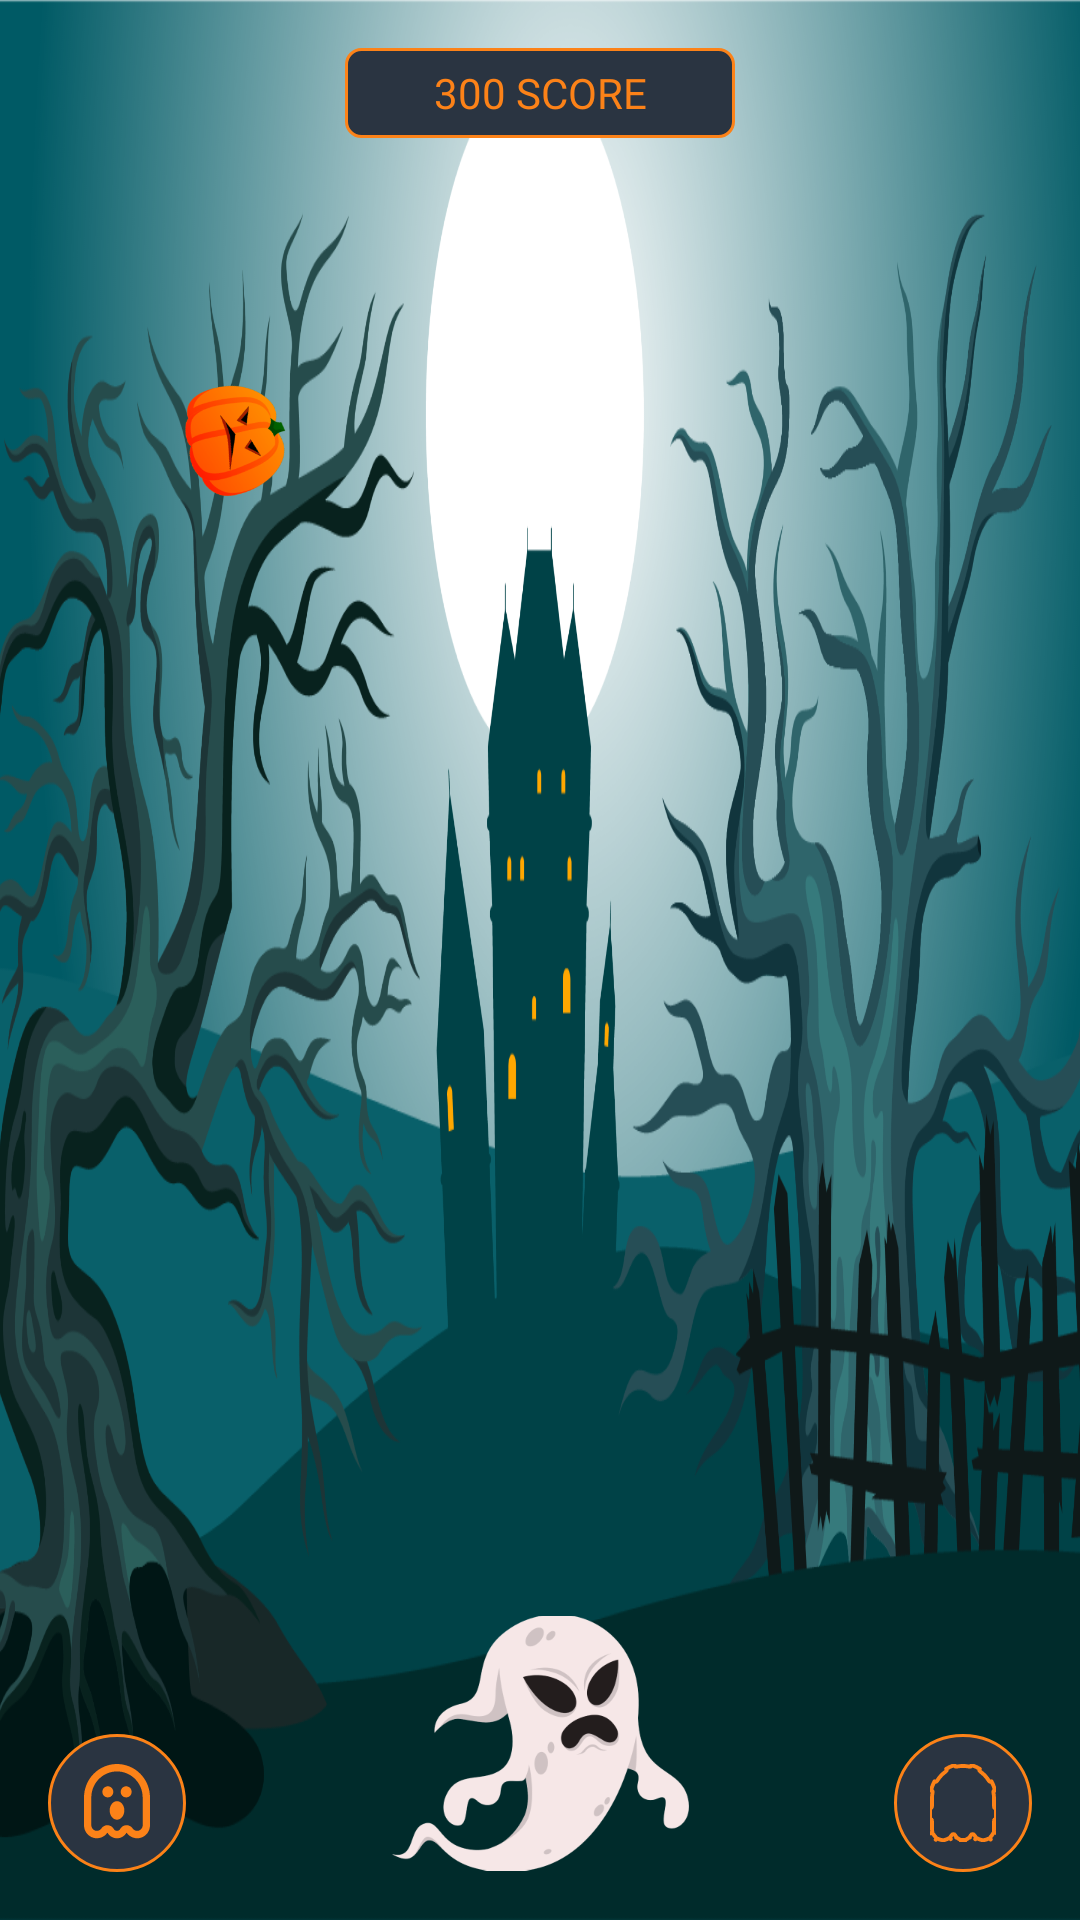

Screen size 1080*1920. Icon name, then its center in pixels as [x,y]:
pumpkin: [234,438]
